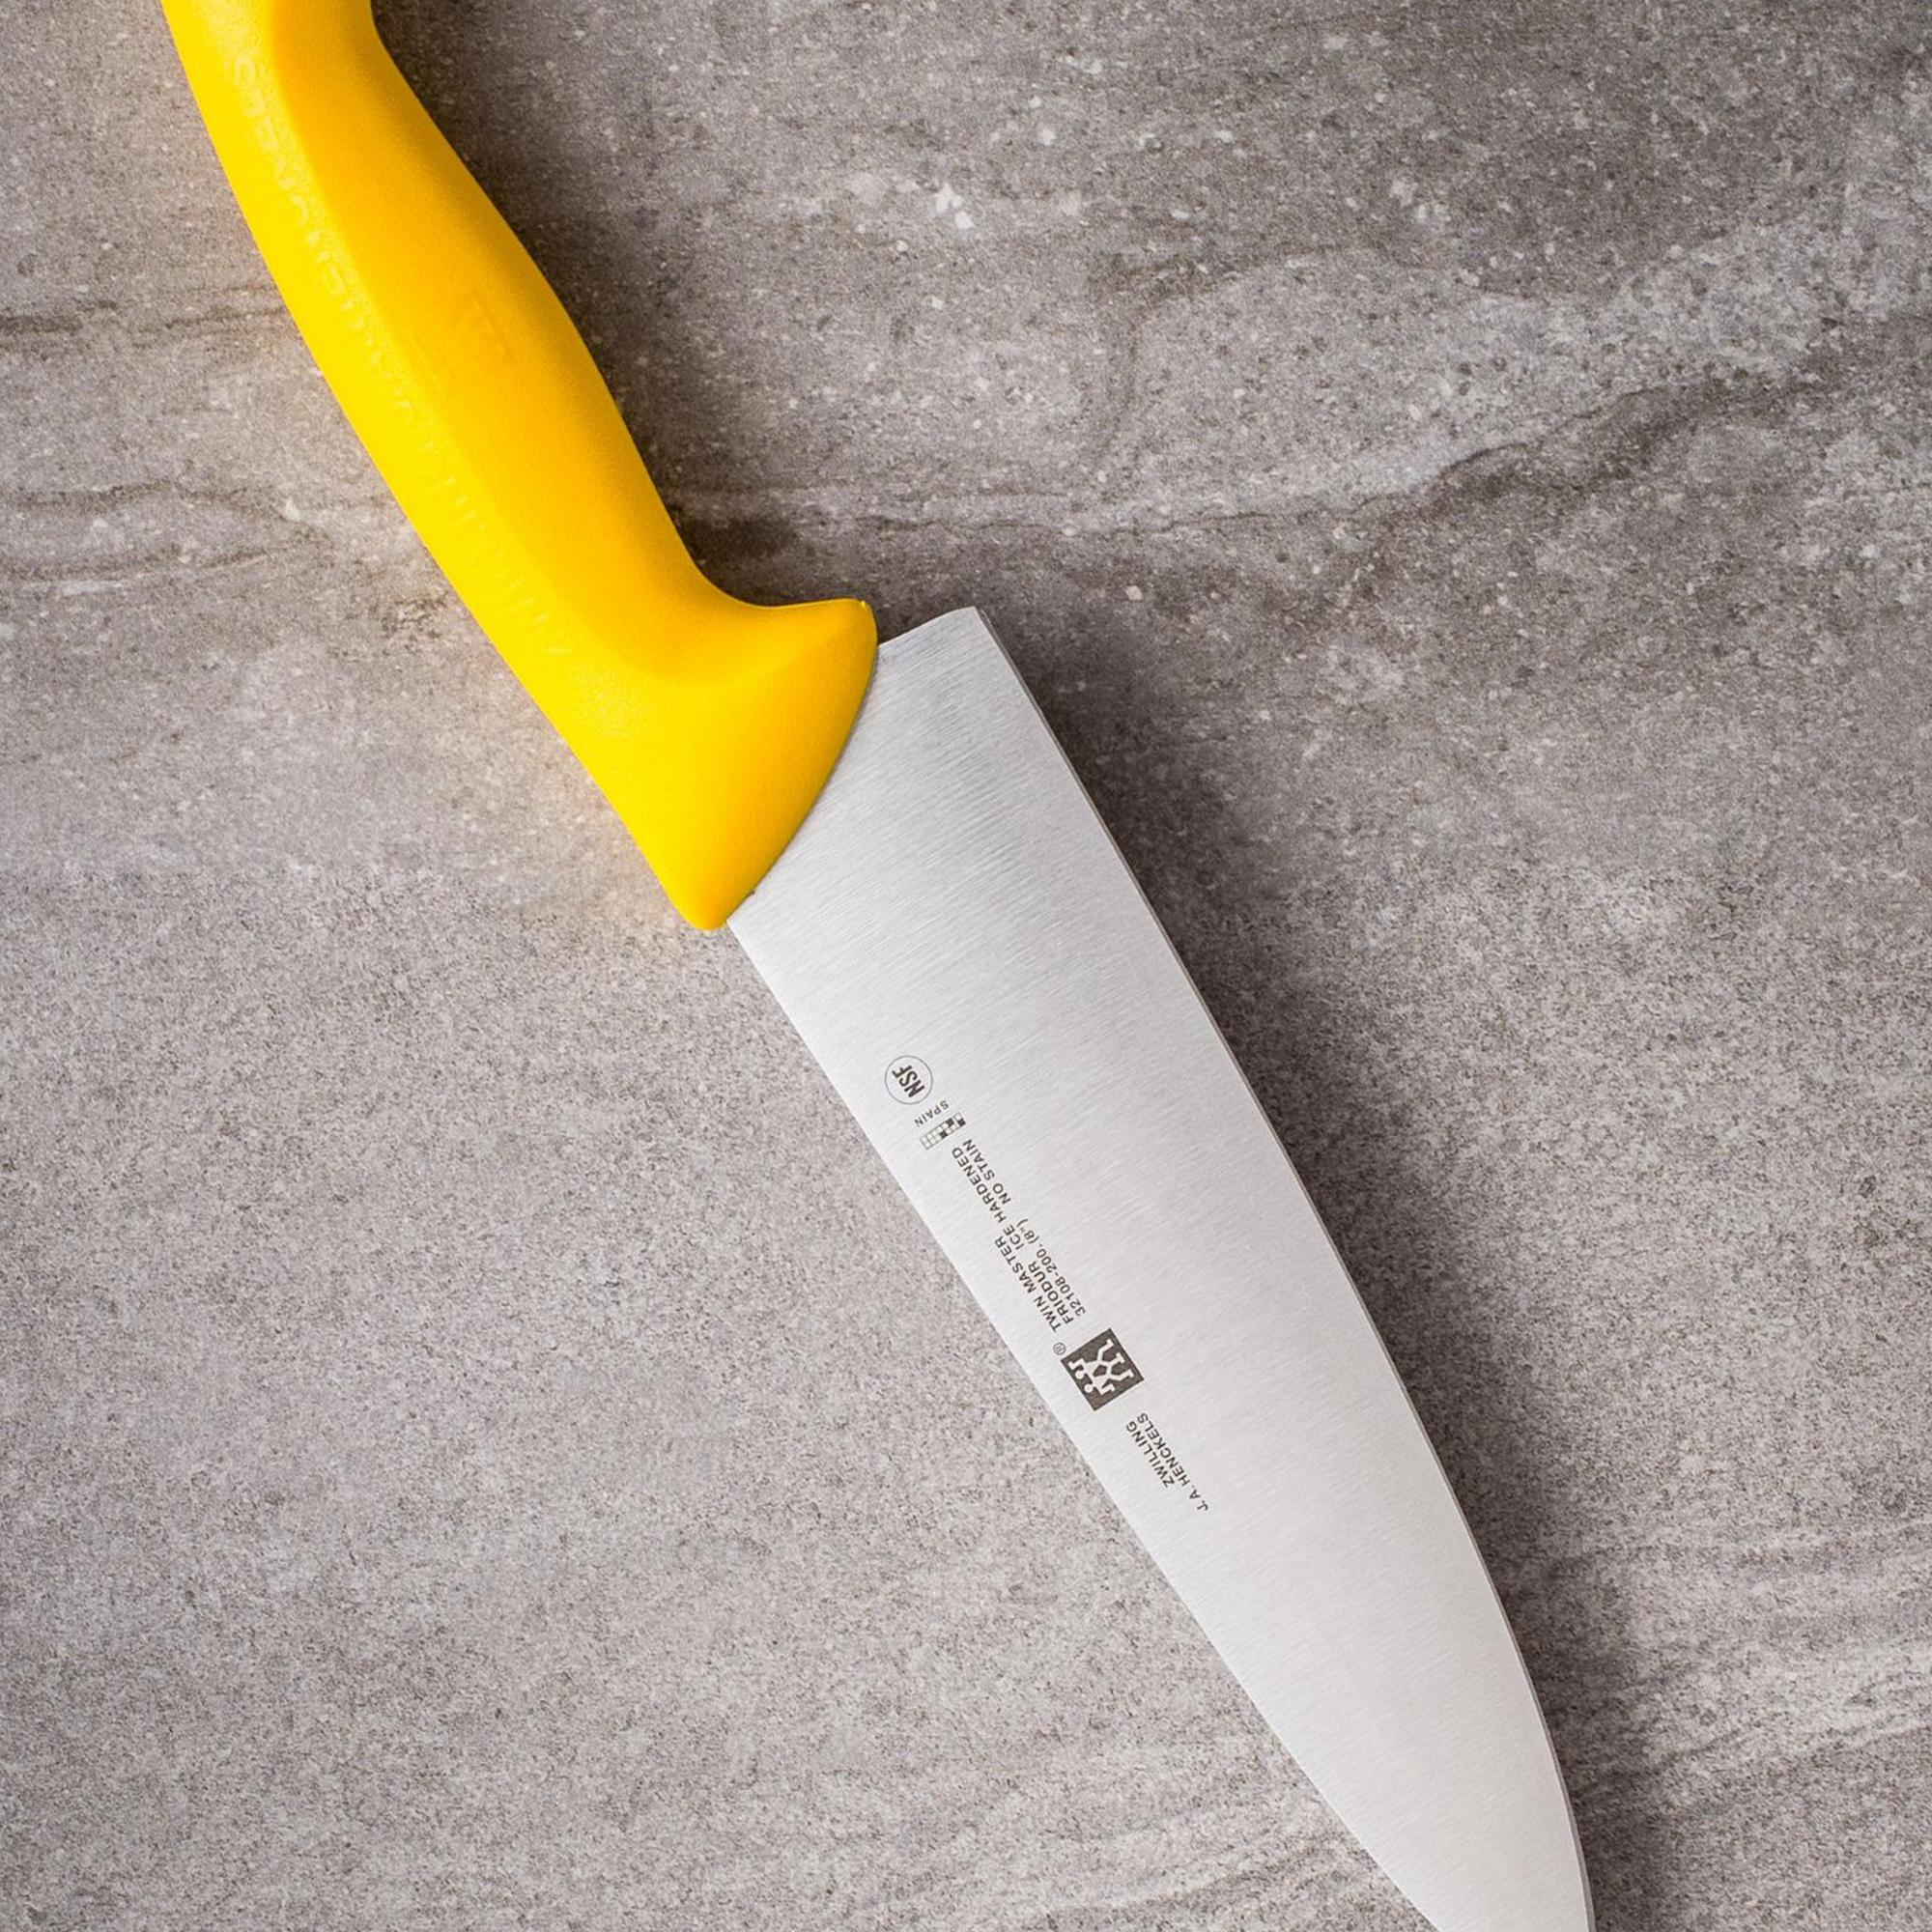knife: (163, 2, 1603, 1925)
